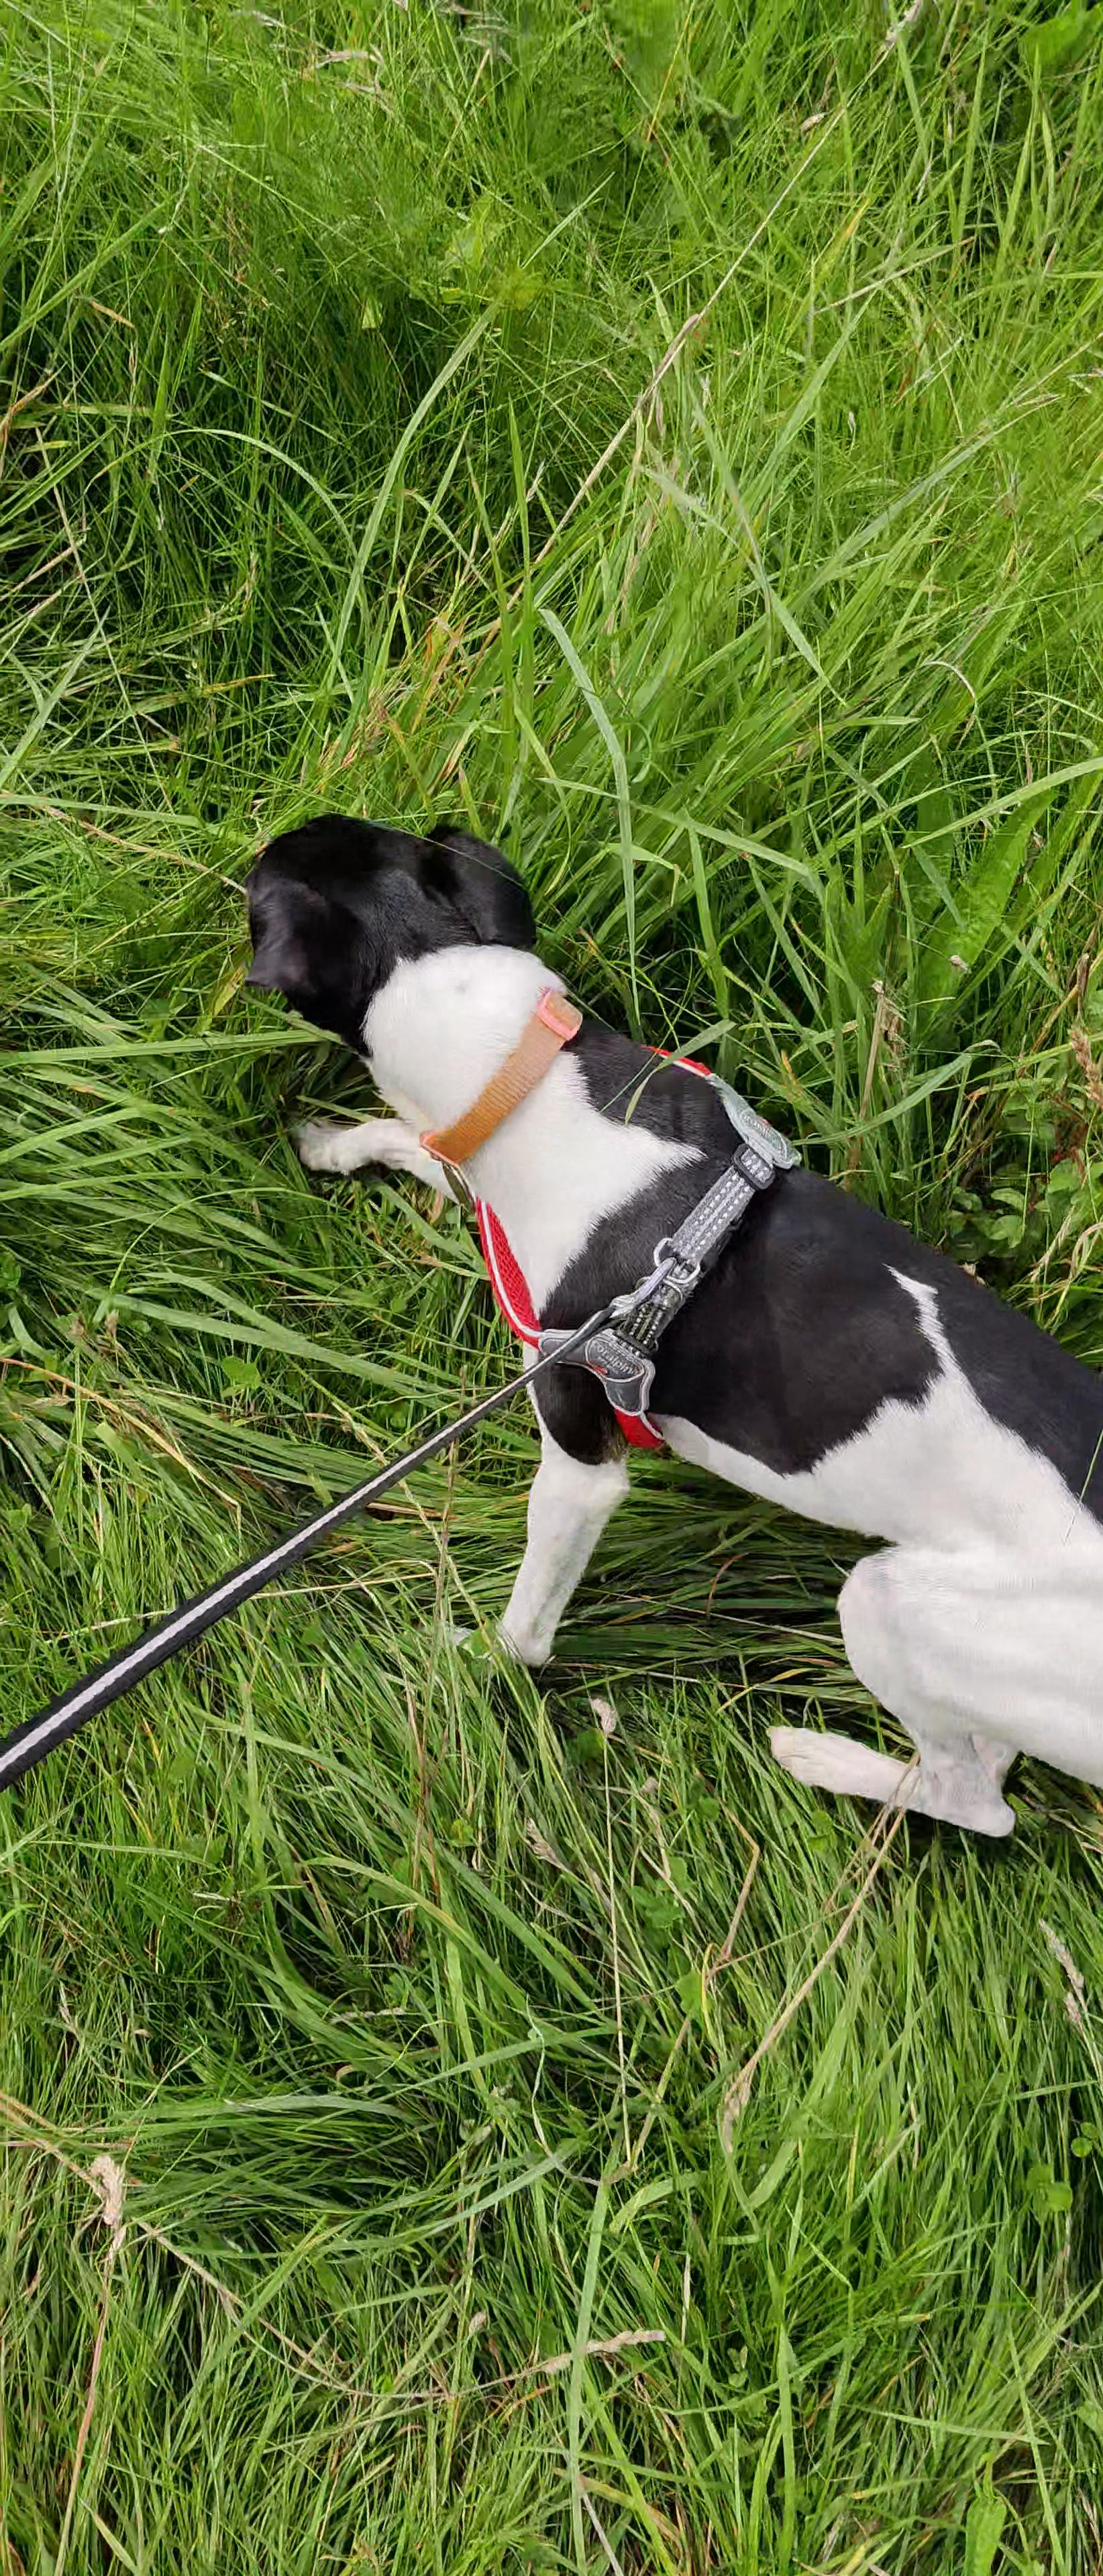Dog: (217, 759, 1103, 1858)
